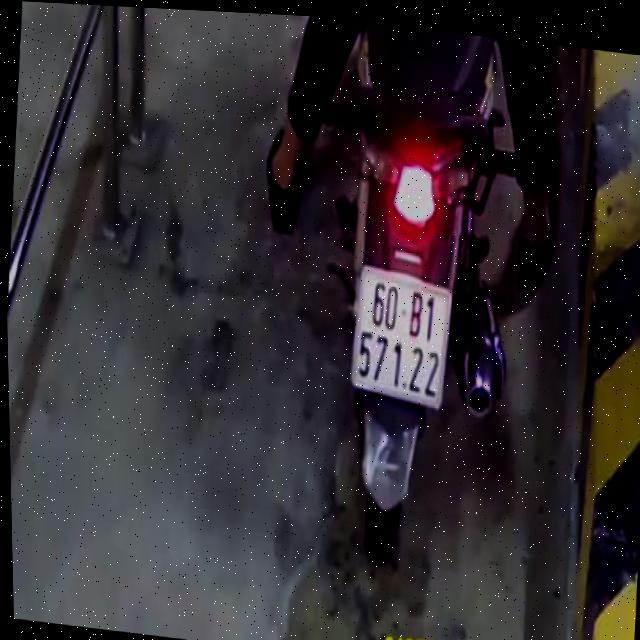motorcycle: (295, 26, 540, 599)
plate: (342, 259, 460, 415)
